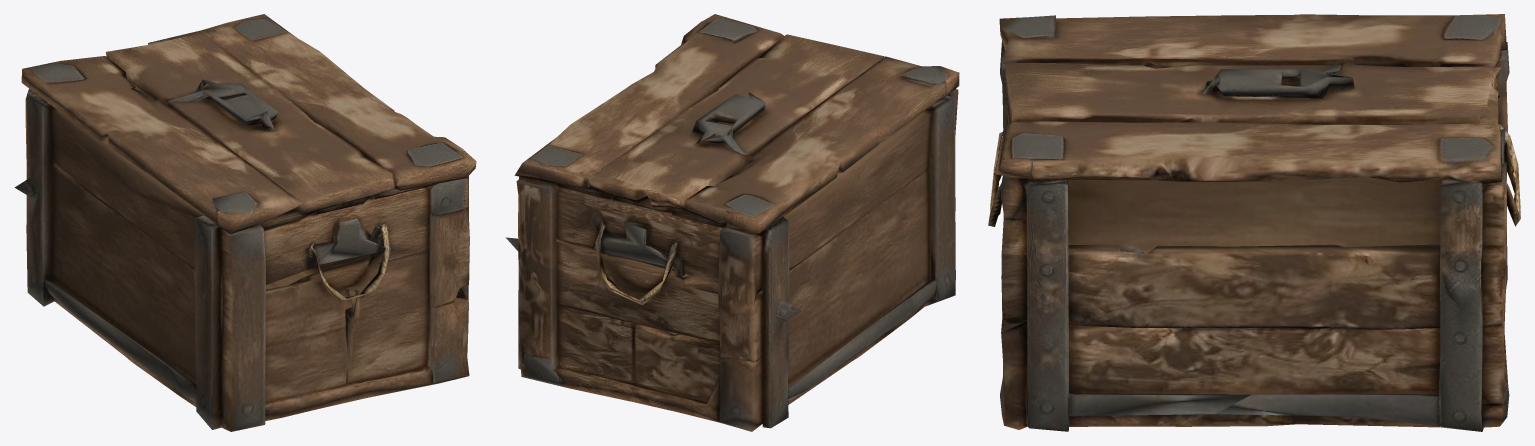
The model's file is bb_small_box.16f3100f20.glb.
3 views of the same model, side by side, from view 1: azimuth 30°, elevation 25°; view 2: azimuth 150°, elevation 25°; view 3: azimuth 270°, elevation 25° (orthographic). The views are drawn at different scales.
Parts seen in each view (by area): view 1: bb_small_box; view 2: bb_small_box; view 3: bb_small_box.
Boxes of the visible parts, box(x1,y1,x2,y2) form: bb_small_box: box(14, 14, 476, 431); bb_small_box: box(505, 14, 959, 431); bb_small_box: box(988, 14, 1520, 431).
Size of the model in its own units: 0.6368 by 0.4744 by 0.8.
Materials: 1 (1 with a texture image).
